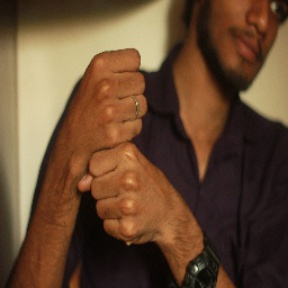G: (61, 45, 172, 252)
